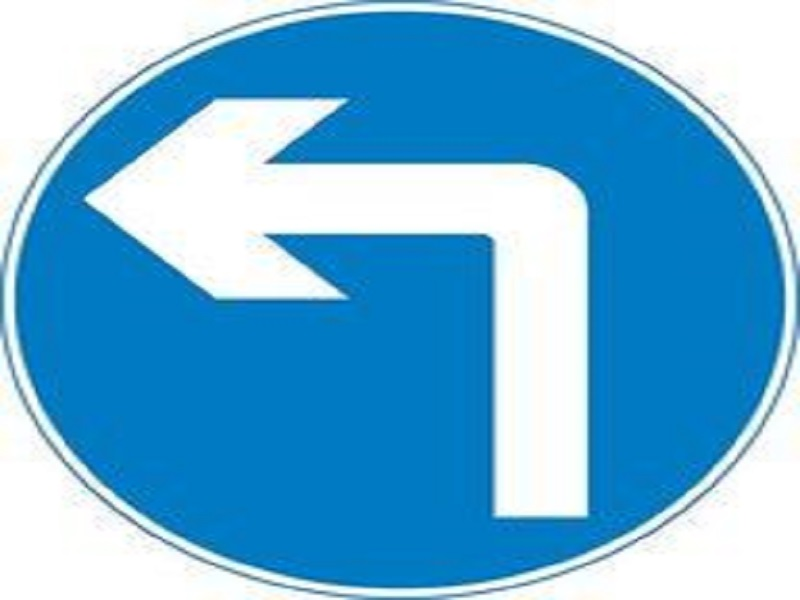solaDon: (76, 81, 603, 523)
